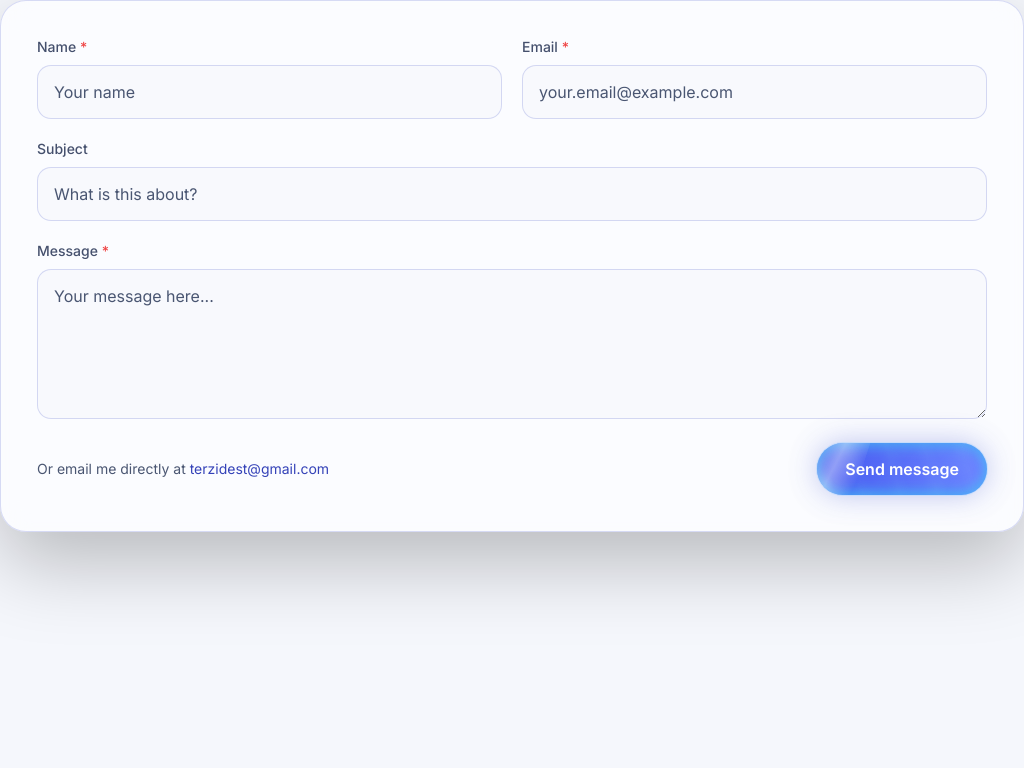
it: ContactForm › announces a successful submission
Step 1. Type "Triantaphilos" into the field labelled "Name *" → (270, 92), box [37,65,502,119]
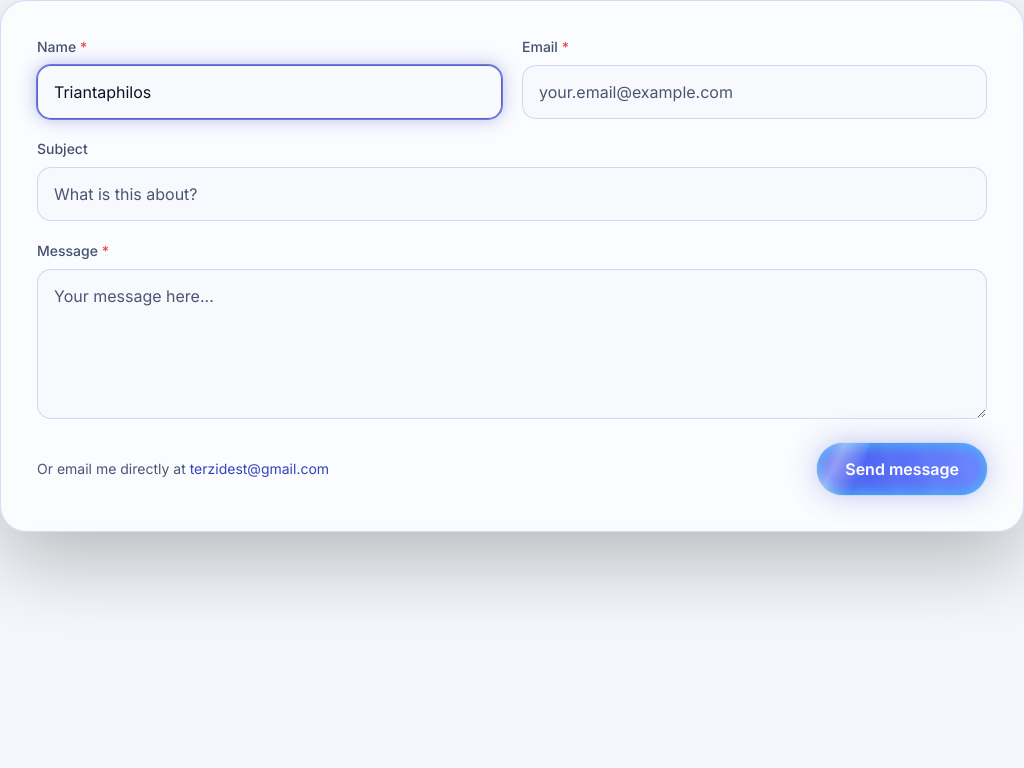
Step 2. Type "triantaphilos@example.com" into the field labelled "Email *" → (754, 92), box [522,65,987,119]
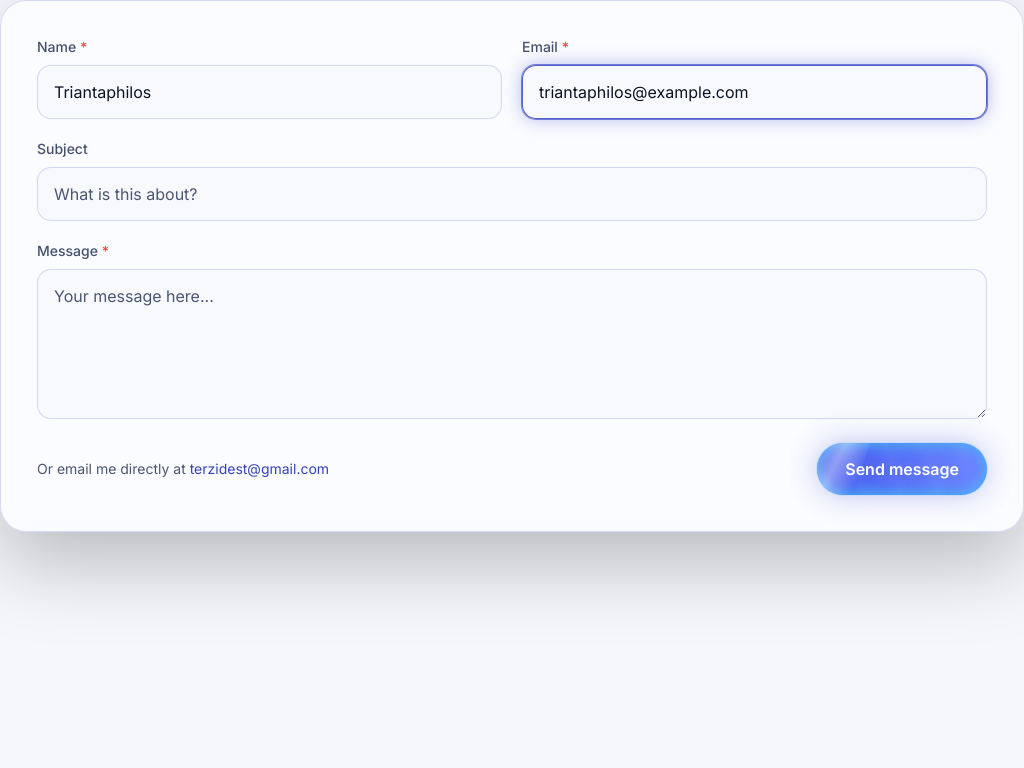
Step 3. Type "A sufficiently long message." into the text box labelled "Message *" → (512, 344), box [37,269,987,419]
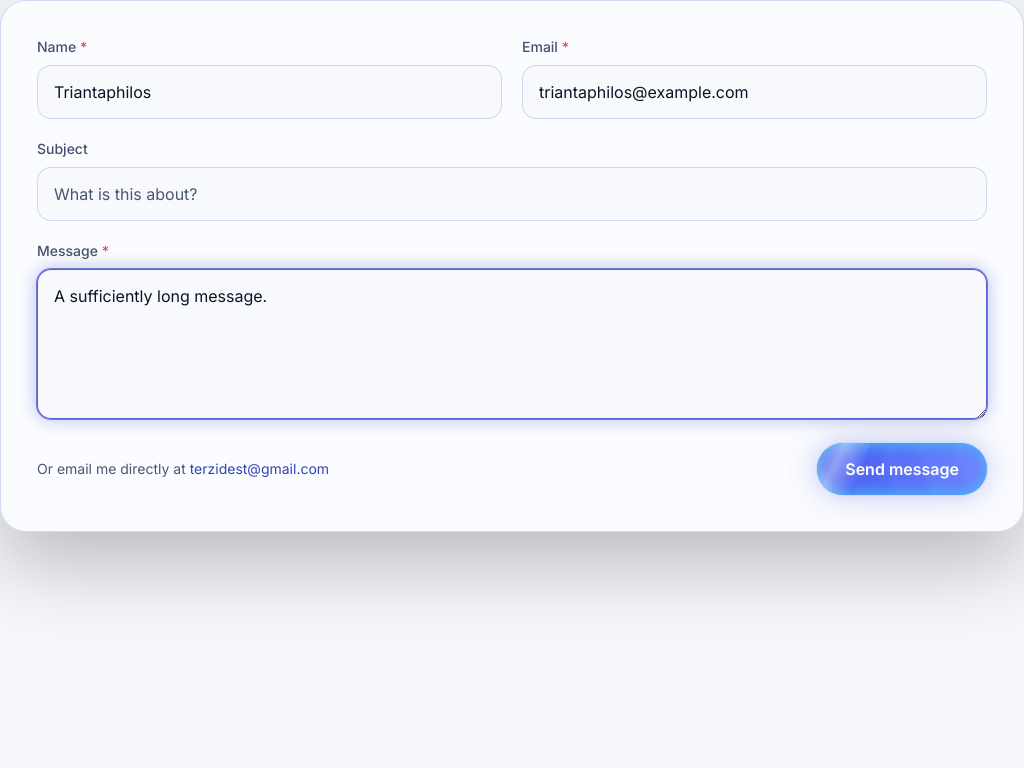
Step 4. Click the button "Send message" → click(902, 469), box [817,443,987,495]
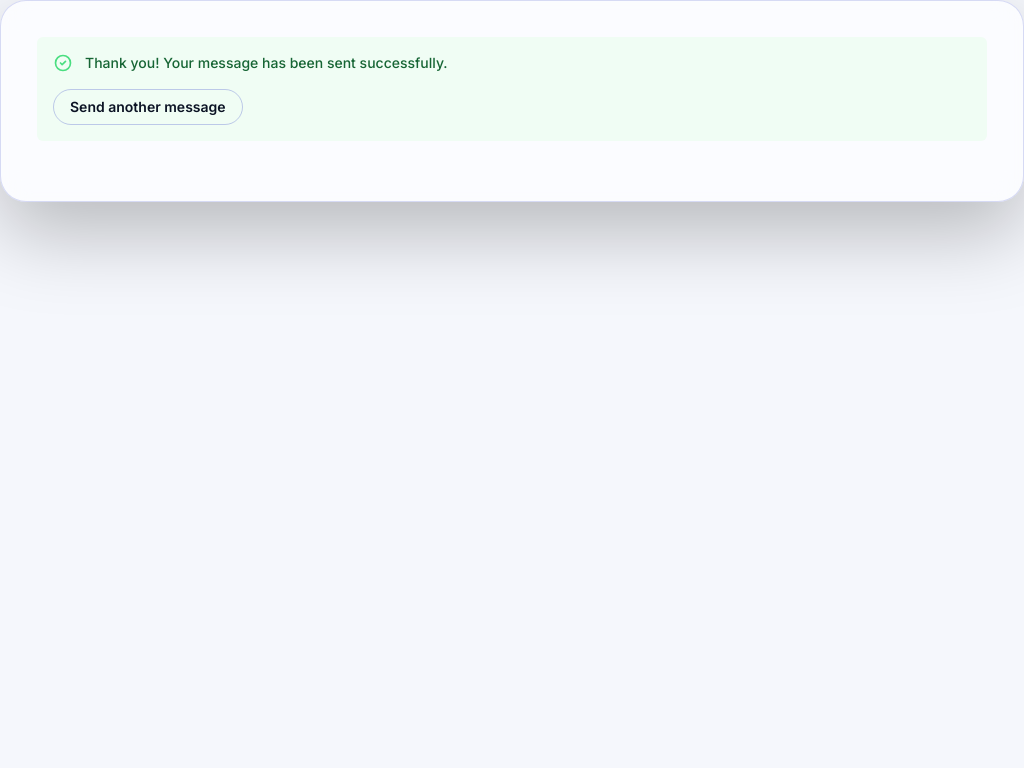
Expected: the message shows "sent successfully", [85,54,448,71]
